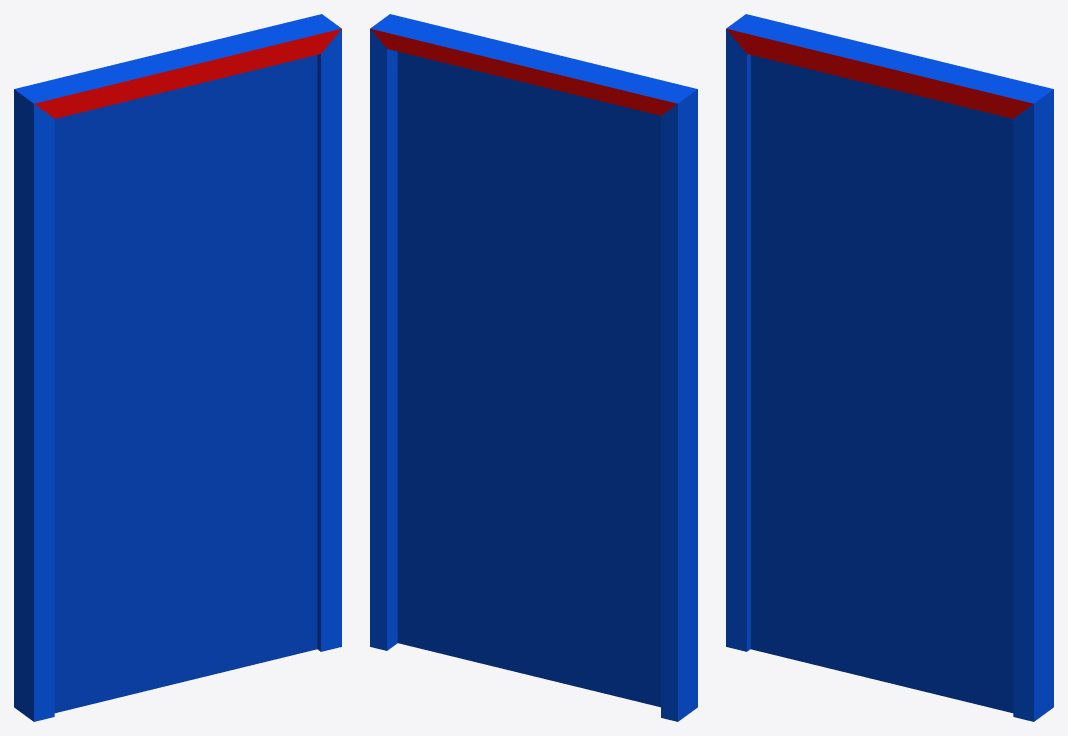
Rendered from Wood_Door.FBX.
The picture shows the model from 3 angles, left to right: view 1: azimuth 30°, elevation 25°; view 2: azimuth 150°, elevation 25°; view 3: azimuth 330°, elevation 25°; orthographic projection.
Visible parts, largest first — view 1: Door, Frame; view 2: Door, Frame; view 3: Door, Frame.
Part boxes in pixels (box(x1,y1,x2,y2)): Door: box(54, 55, 317, 713); Frame: box(14, 14, 341, 721); Door: box(397, 51, 660, 707); Frame: box(370, 14, 697, 721); Door: box(750, 55, 1013, 712); Frame: box(726, 14, 1053, 721).
Bounding box in the file's own units: 112 × 216 × 12.64.
